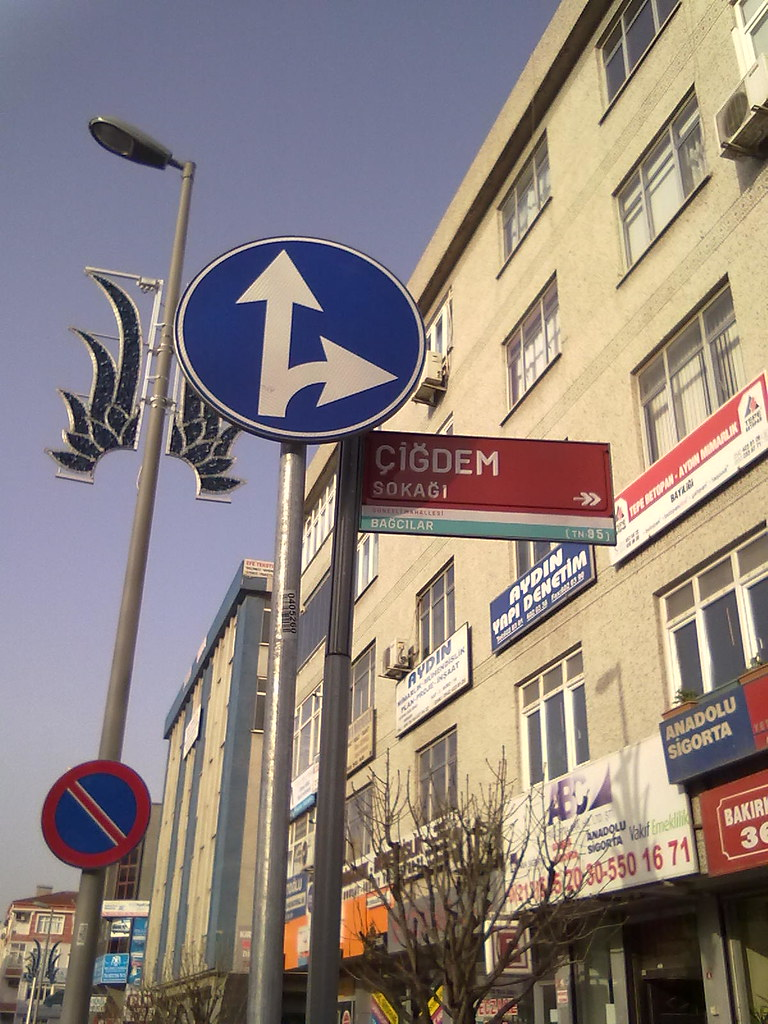ileri_veya_saga: (175, 231, 427, 437)
